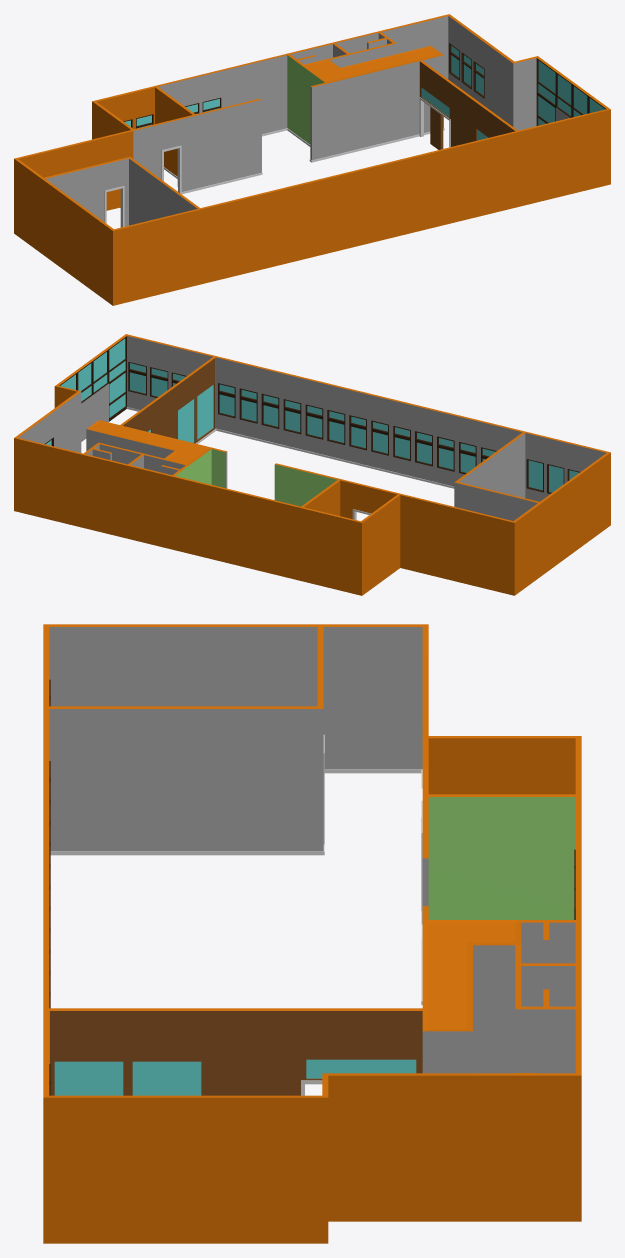
Rendered from WiderFixed.fbx.
The picture shows the model from 3 angles, top to bottom: view 1: azimuth 30°, elevation 25°; view 2: azimuth 150°, elevation 25°; view 3: azimuth 270°, elevation 25°; orthographic projection. The views are drawn at different scales.
Visible parts, largest first — view 1: Walls, DoubleDoorDivider; view 2: Walls; view 3: Walls.
Boxes of the visible parts, bbox=[...] form: Walls: bbox=[14, 14, 610, 305]; DoubleDoorDivider: bbox=[430, 107, 443, 149]; Walls: bbox=[14, 334, 610, 595]; Walls: bbox=[43, 624, 581, 1243].
Size of the model in its own units: 2785 by 400 by 1339.
